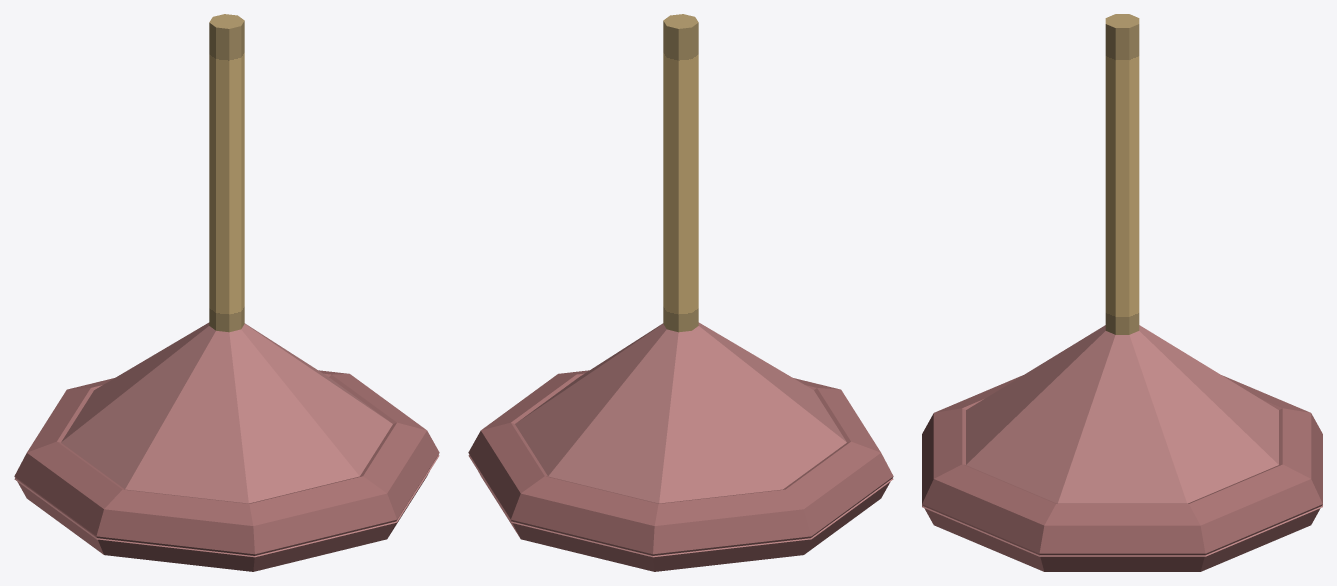
Rendered from ceiling lamp.fbx.
3 views of the same model, side by side, from view 1: azimuth 30°, elevation 25°; view 2: azimuth 150°, elevation 25°; view 3: azimuth 270°, elevation 25° (orthographic).
Visible parts, largest first — view 1: cone, torus, cylinder; view 2: cone, torus, cylinder; view 3: cone, torus, cylinder.
Boxes of the visible parts, left/top/right/bottom form: cone: left=14, top=322, right=439, bottom=557; torus: left=14, top=370, right=439, bottom=571; cylinder: left=209, top=14, right=244, bottom=332; cone: left=468, top=322, right=893, bottom=557; torus: left=468, top=370, right=893, bottom=571; cylinder: left=663, top=14, right=698, bottom=332; cone: left=922, top=325, right=1322, bottom=556; torus: left=922, top=375, right=1322, bottom=571; cylinder: left=1105, top=14, right=1139, bottom=334.
Bounding box in the file's own units: 37.5 × 50.94 × 37.5.
Materials: 1 (1 with a texture image).
